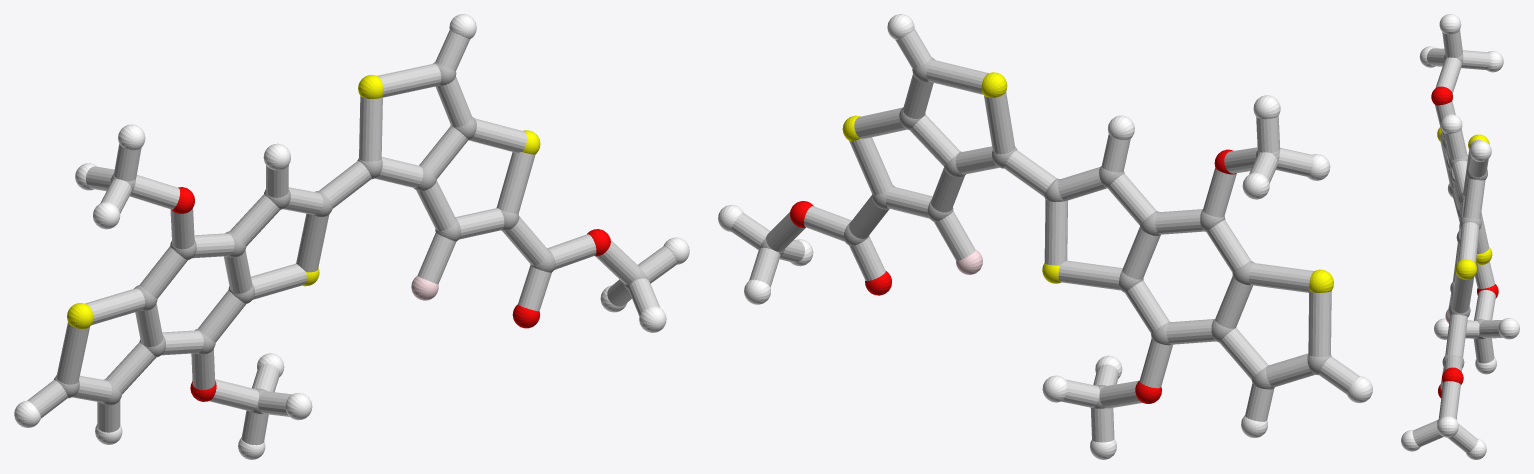
Rendered from color.glb.
The picture shows the model from 3 angles, left to right: view 1: azimuth 30°, elevation 25°; view 2: azimuth 150°, elevation 25°; view 3: azimuth 270°, elevation 25°; orthographic projection. The views are drawn at different scales.
Visible parts, largest first — view 1: grp15205, grp8689, grp1, grp13395, grp7241; view 2: grp15205, grp8689, grp1, grp7241, grp13395; view 3: grp15205, grp8689, grp1, grp13395, grp7241.
Part boxes in pixels (x1,y1,x2,y2): grp15205: [27, 30, 677, 445]; grp8689: [14, 14, 689, 459]; grp1: [54, 62, 648, 413]; grp13395: [171, 187, 610, 401]; grp7241: [67, 75, 540, 329]; grp15205: [731, 28, 1359, 442]; grp8689: [718, 14, 1372, 459]; grp1: [760, 57, 1331, 408]; grp7241: [842, 72, 1333, 292]; grp13395: [790, 149, 1236, 403]; grp15205: [1412, 30, 1502, 452]; grp8689: [1401, 14, 1519, 459]; grp1: [1437, 54, 1487, 423]; grp13395: [1431, 86, 1498, 398]; grp7241: [1437, 127, 1492, 279].
Bounding box in the file's own units: 16.78 × 9.52 × 3.29.
